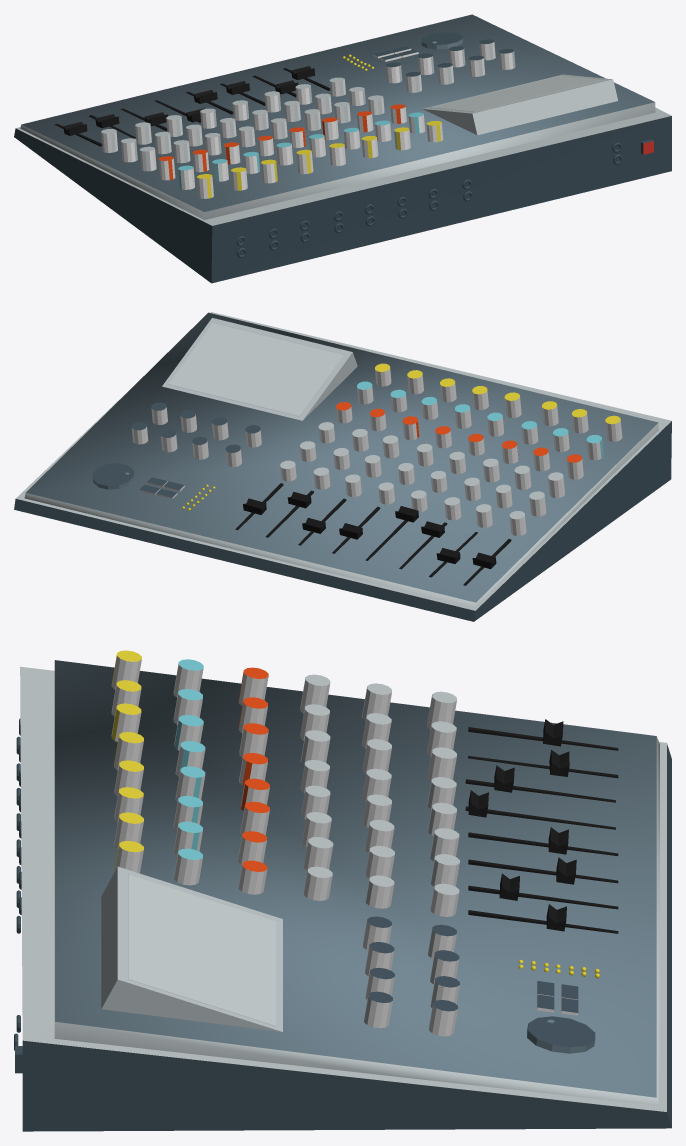
Rendered from Digital Audio Mixing Desk.fbx.
3 renders of one model, top to bottom at view 1: azimuth 30°, elevation 25°; view 2: azimuth 150°, elevation 25°; view 3: azimuth 270°, elevation 25°, orthographic. The views are drawn at different scales.
Visible parts, largest first — view 1: model13:mesh1044398291, model13:mesh46021557, model13:mesh1285066321, model13:mesh79297576, model13:mesh585407428; view 2: model13:mesh1044398291, model13:mesh46021557, model13:mesh1285066321, model13:mesh79297576, model13:mesh585407428; view 3: model13:mesh1044398291, model13:mesh46021557, model13:mesh1285066321, model13:mesh79297576, model13:mesh585407428, model13:mesh1928956943, model13:mesh1691023472, model13:mesh604880534, model13:mesh944311541, model13:mesh1115758431, model13:mesh916088644, model13:mesh286128165 (+45 smaller).
Boxes of the visible parts, x1,y1,x2,y2 form: model13:mesh1044398291: (20, 14, 655, 219); model13:mesh46021557: (14, 16, 671, 283); model13:mesh1285066321: (422, 74, 617, 135); model13:mesh79297576: (430, 75, 605, 111); model13:mesh585407428: (421, 32, 462, 49); model13:mesh1044398291: (24, 312, 658, 607); model13:mesh46021557: (14, 312, 671, 621); model13:mesh1285066321: (162, 318, 357, 420); model13:mesh79297576: (168, 323, 343, 415); model13:mesh585407428: (92, 463, 134, 489); model13:mesh1044398291: (54, 660, 659, 1105); model13:mesh46021557: (20, 666, 671, 1131); model13:mesh1285066321: (101, 866, 282, 1031); model13:mesh79297576: (128, 873, 275, 1026); model13:mesh585407428: (527, 1016, 595, 1053); model13:mesh1928956943: (174, 848, 202, 885); model13:mesh1691023472: (364, 991, 392, 1028); model13:mesh604880534: (429, 1000, 457, 1036); model13:mesh944311541: (304, 866, 332, 900); model13:mesh1115758431: (238, 860, 267, 894); model13:mesh916088644: (111, 650, 141, 689); model13:mesh286128165: (173, 659, 203, 697).
Size of the model in its own units: 3.4 by 0.5584 by 2.56.
